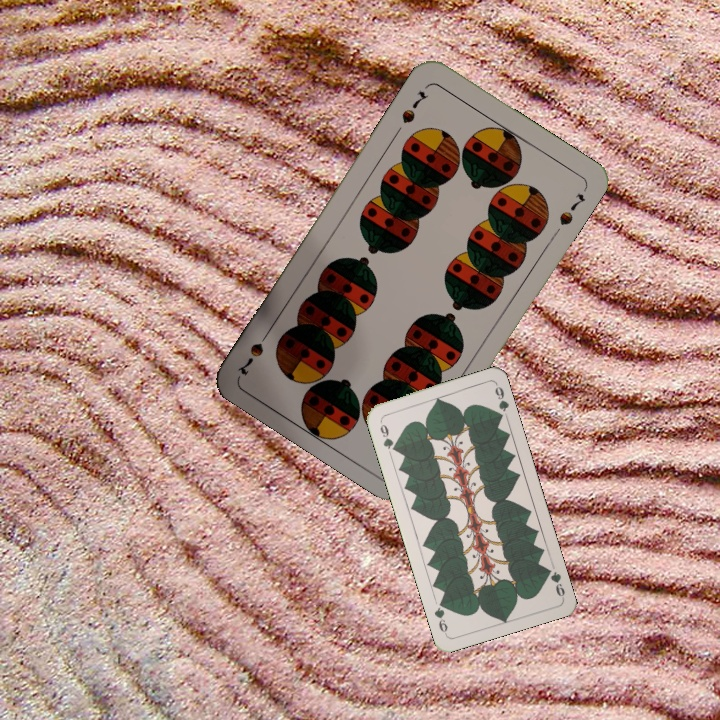G9: (541, 563, 568, 601), (376, 416, 399, 454)
S7: (397, 86, 430, 126)
